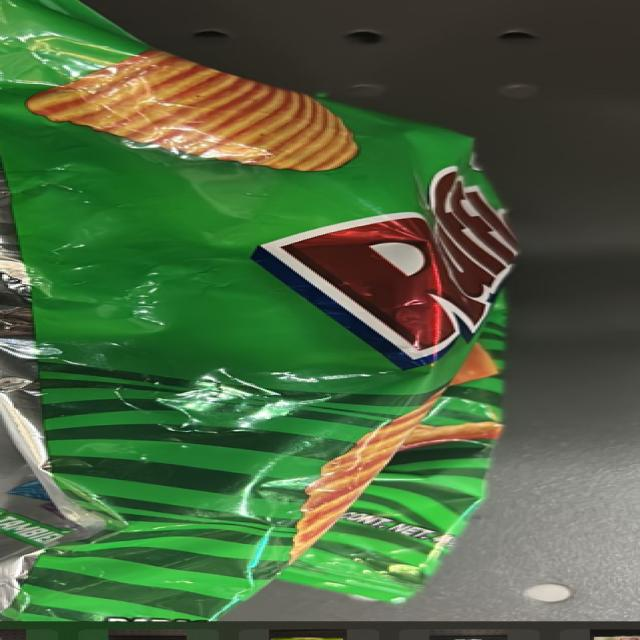rufflesQueso: (22, 47, 509, 623)
